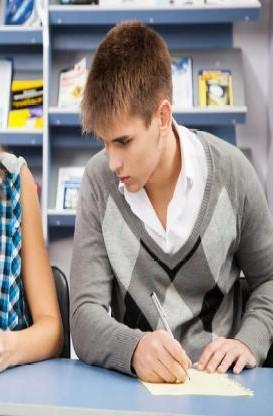cheating: (56, 5, 273, 416)
